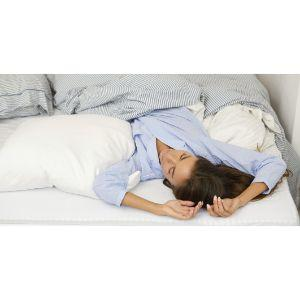sleep: (90, 101, 286, 218), (159, 149, 193, 181)
